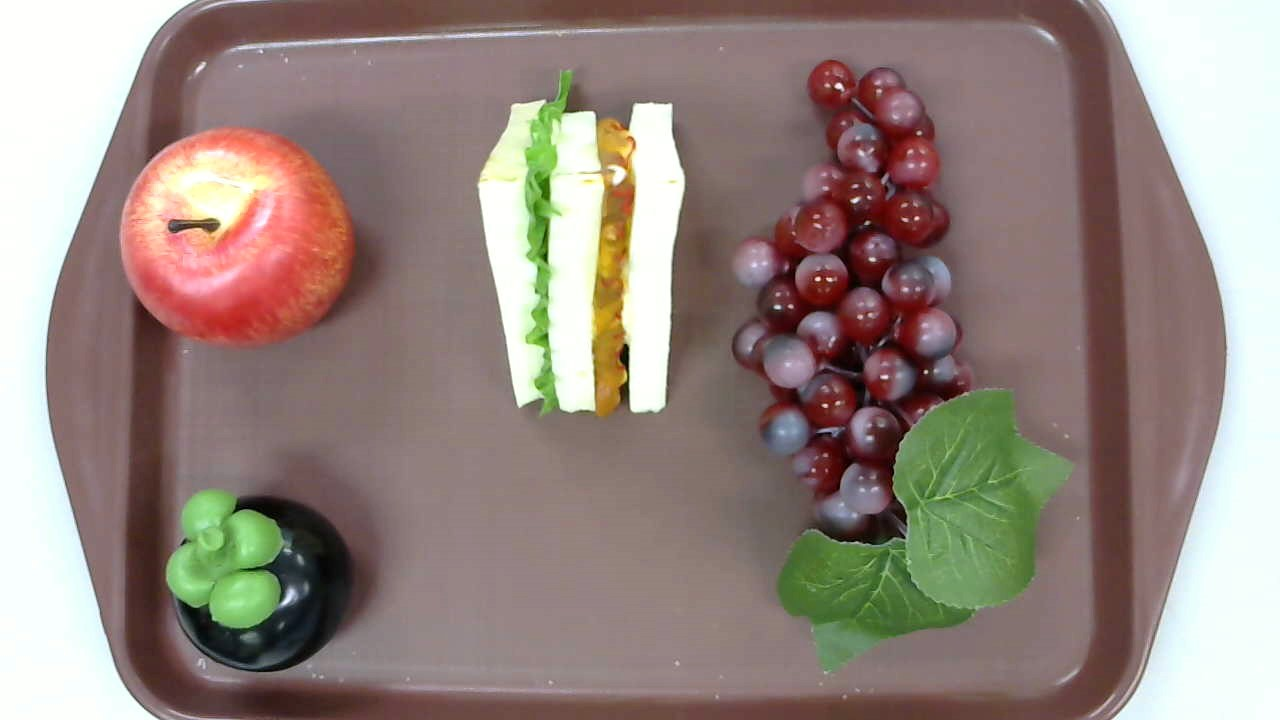grape: (731, 57, 1075, 674)
mangosteen: (165, 488, 353, 674)
red apple: (118, 127, 357, 350)
sandwich: (476, 68, 687, 416)
